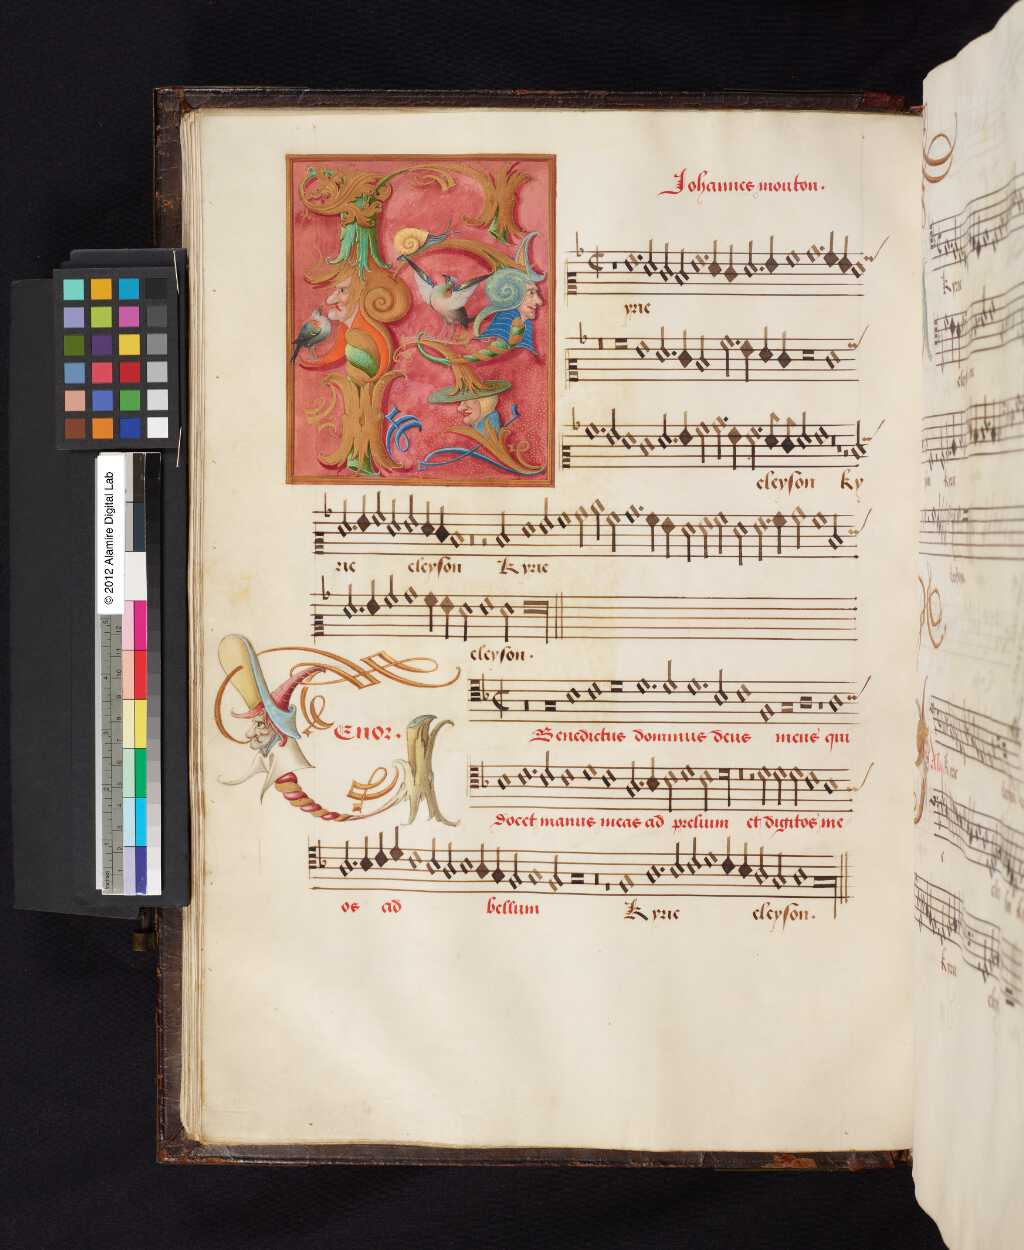Imincut: (584, 239, 611, 287)
c clef_9: (561, 257, 582, 311)
custos_6: (863, 245, 888, 270)
flat_3: (570, 224, 587, 263)
minim_6: (742, 230, 758, 284), (642, 230, 658, 281)
minim_7: (658, 232, 675, 288)
minim_8: (674, 238, 691, 293)
point: (814, 236, 828, 257), (698, 247, 711, 265), (754, 259, 766, 277), (631, 248, 644, 266)
semibreve rest: (609, 239, 621, 296)
semibreve_3: (804, 238, 814, 268)
semibreve_4: (782, 239, 804, 277)
semibreve_5: (689, 246, 707, 279), (622, 245, 640, 279)
semibreve_6: (850, 253, 869, 288)
semiminim_4: (824, 221, 841, 276)
semiminim_5: (763, 228, 780, 281), (838, 226, 854, 281)
semiminim_6: (708, 232, 724, 284)
semiminim_7: (723, 236, 740, 291)
